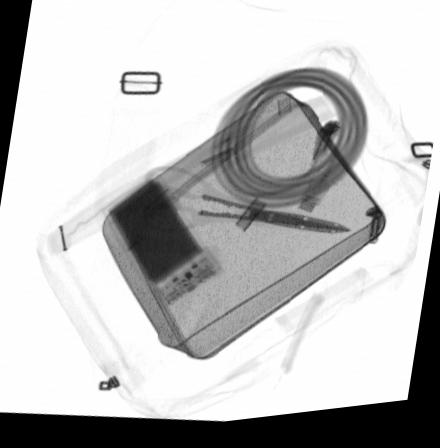Powerbank: (98, 174, 228, 316)
Scissors: (140, 169, 357, 243)
